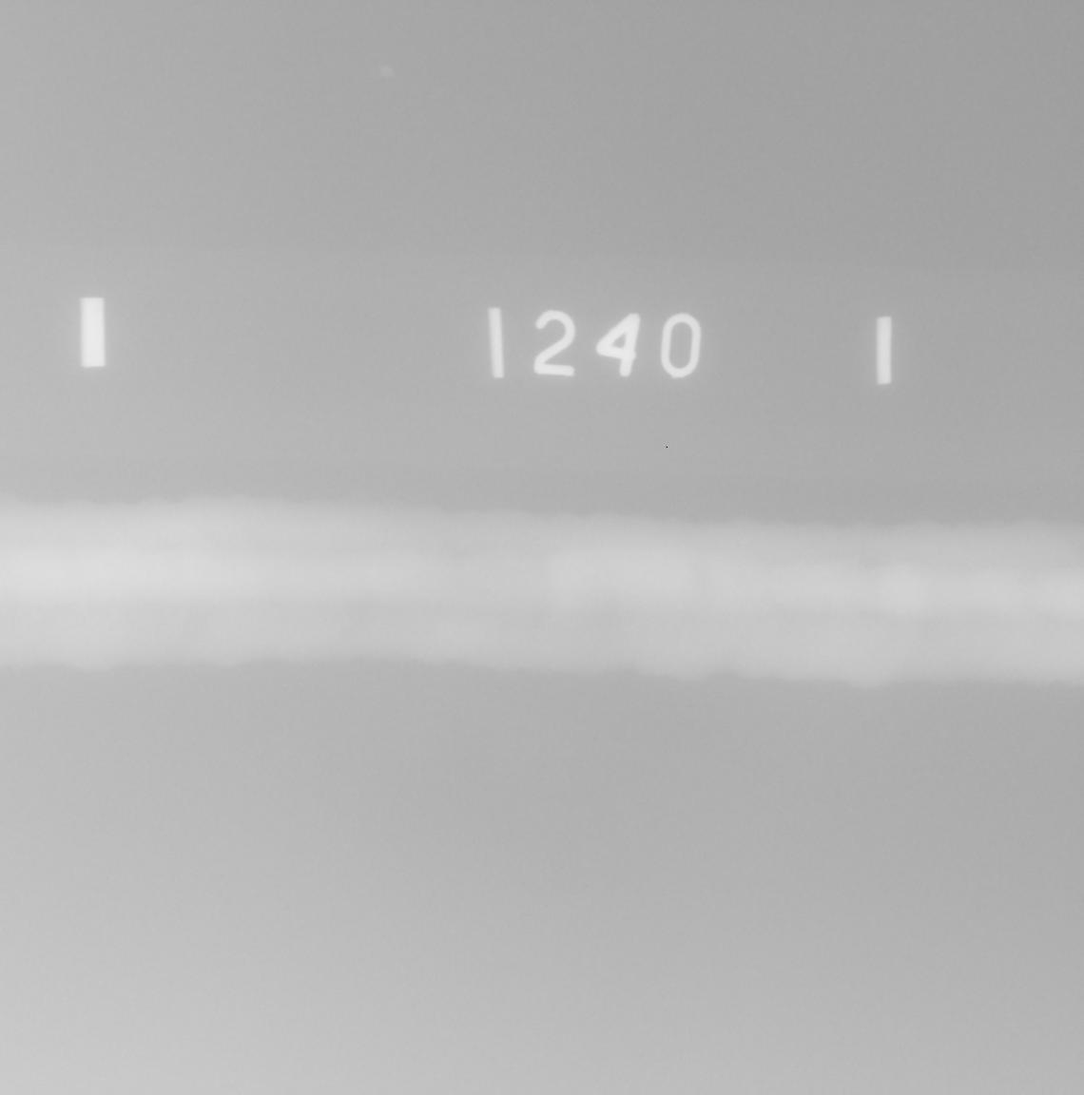Pore/Porosity: (533, 624, 538, 629), (273, 603, 279, 607), (735, 543, 739, 547)
